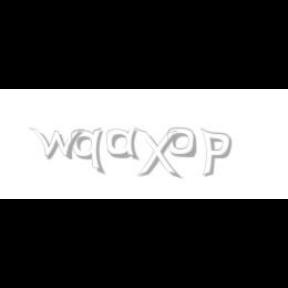P: (200, 128, 232, 178)
X: (135, 128, 179, 180)
a: (106, 128, 144, 160)
o: (168, 128, 196, 158)
q: (71, 128, 107, 176)
w: (30, 128, 88, 160)
